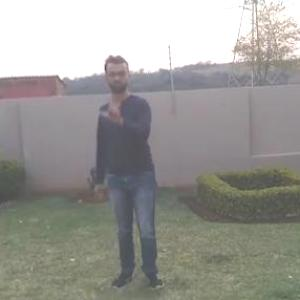land_hand: (99, 96, 127, 130)
